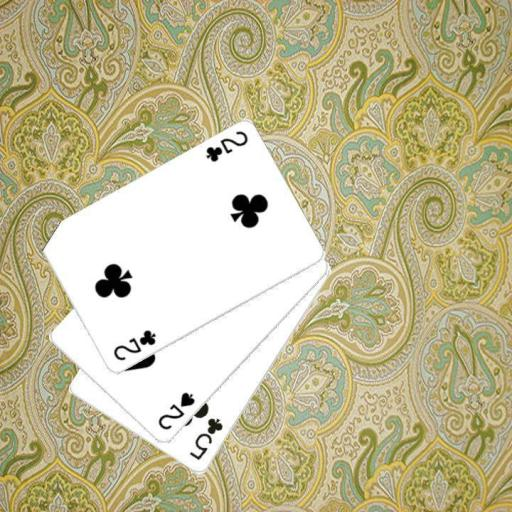card-corner: (186, 415, 225, 462), (155, 389, 196, 432), (110, 326, 157, 363), (202, 128, 250, 164)
